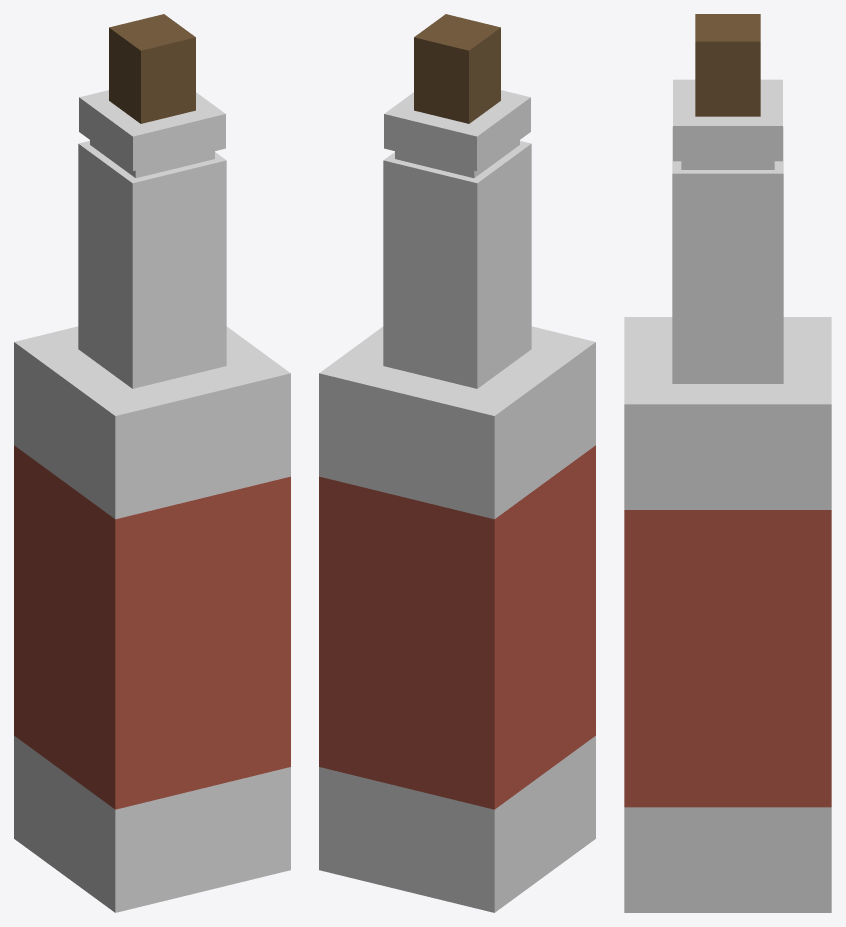
Rendered from item_wine.fbx.
3 views of the same model, side by side, from view 1: azimuth 30°, elevation 25°; view 2: azimuth 150°, elevation 25°; view 3: azimuth 270°, elevation 25° (orthographic). The views are drawn at different scales.
Visible parts, largest first — view 1: Wine; view 2: Wine; view 3: Wine.
Part boxes in pixels (x1,y1,x2,y2): Wine: [14, 14, 290, 912]; Wine: [319, 14, 595, 912]; Wine: [624, 14, 831, 912].
Size of the model in its own units: 140 by 629 by 140.
